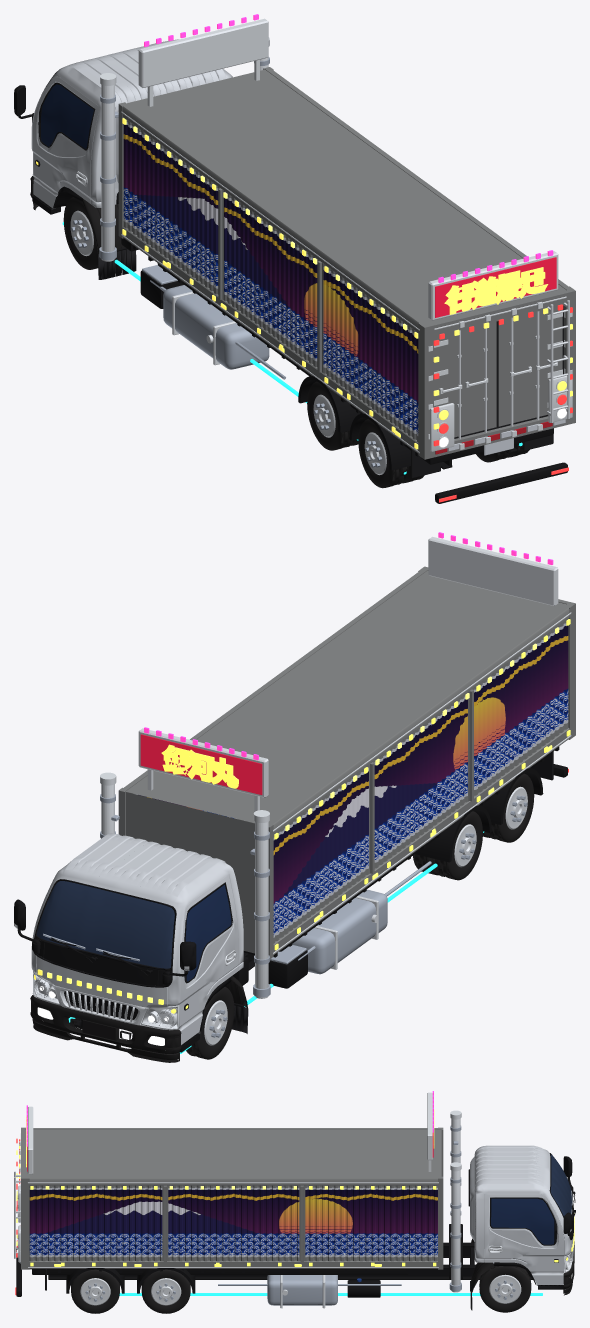
Rendered from dekotora_truck_base_jac.glb.
3 views of the same model, one above another, from view 1: azimuth 30°, elevation 25°; view 2: azimuth 150°, elevation 25°; view 3: azimuth 270°, elevation 25° (orthographic). The views are drawn at different scales.
Visible parts, largest first — view 1: truck_paint_white_box, truck_mural, truck_box_metal, truck_chrome, truck_paint_white_panel, truck_plastic_black, truck_steel, truck_lamp_amber, truck_glass, truck_rubber, wheel_r_L_1.5_1.06, wheel_r_L_3.0_1.06 (+6 smaller); view 2: truck_paint_white_box, truck_mural, truck_paint_white_panel, truck_chrome, truck_box_metal, truck_plastic_black, truck_glass_wind, truck_steel, truck_plastic_trim, truck_lamp_amber, truck_andon_panel, truck_glass (+5 smaller); view 3: truck_mural, truck_paint_white_box, truck_box_metal, truck_paint_white_panel, truck_plastic_black, truck_chrome, truck_steel, truck_glass, wheel_f_R, wheel_r_R_3.0_1.06, wheel_r_R_1.5_1.06, truck_lamp_amber (+3 smaller).
Part boxes in pixels (left/top/right/bottom): truck_paint_white_box: left=123, top=69, right=566, bottom=441; truck_mural: left=123, top=122, right=418, bottom=435; truck_box_metal: left=118, top=67, right=575, bottom=459; truck_chrome: left=32, top=18, right=572, bottom=453; truck_paint_white_panel: left=31, top=39, right=232, bottom=208; truck_plastic_black: left=14, top=71, right=567, bottom=503; truck_steel: left=99, top=57, right=285, bottom=379; truck_lamp_amber: left=36, top=118, right=572, bottom=449; truck_glass: left=41, top=84, right=93, bottom=148; truck_rubber: left=98, top=249, right=563, bottom=478; wheel_r_L_1.5_1.06: left=358, top=419, right=408, bottom=488; wheel_r_L_3.0_1.06: left=307, top=381, right=354, bottom=450; truck_paint_white_box: left=126, top=570, right=568, bottom=953; truck_mural: left=135, top=623, right=568, bottom=937; truck_paint_white_panel: left=31, top=833, right=243, bottom=1044; truck_chrome: left=15, top=536, right=571, bottom=1030; truck_box_metal: left=118, top=566, right=575, bottom=958; truck_plastic_black: left=14, top=746, right=567, bottom=1052; truck_glass_wind: left=36, top=881, right=174, bottom=968; truck_steel: left=43, top=794, right=431, bottom=1007; truck_plastic_trim: left=30, top=975, right=247, bottom=1062; truck_lamp_amber: left=34, top=619, right=570, bottom=1013; truck_andon_panel: left=140, top=734, right=262, bottom=794; truck_glass: left=184, top=885, right=231, bottom=981; truck_mural: left=29, top=1187, right=437, bottom=1257; truck_paint_white_box: left=25, top=1130, right=441, bottom=1261; truck_box_metal: left=21, top=1127, right=443, bottom=1269; truck_paint_white_panel: left=470, top=1145, right=573, bottom=1284; truck_plastic_black: left=16, top=1153, right=575, bottom=1297; truck_chrome: left=14, top=1092, right=573, bottom=1308; truck_steel: left=218, top=1125, right=572, bottom=1305; truck_glass: left=491, top=1198, right=554, bottom=1244; wheel_f_R: left=479, top=1263, right=531, bottom=1312; wheel_r_R_3.0_1.06: left=141, top=1269, right=190, bottom=1313; wheel_r_R_1.5_1.06: left=71, top=1269, right=119, bottom=1313; truck_lamp_amber: left=16, top=1109, right=574, bottom=1266.
Bounding box in the file's own units: 3.05 × 4.22 × 11.93.
Materials: 24 (8 with a texture image).
